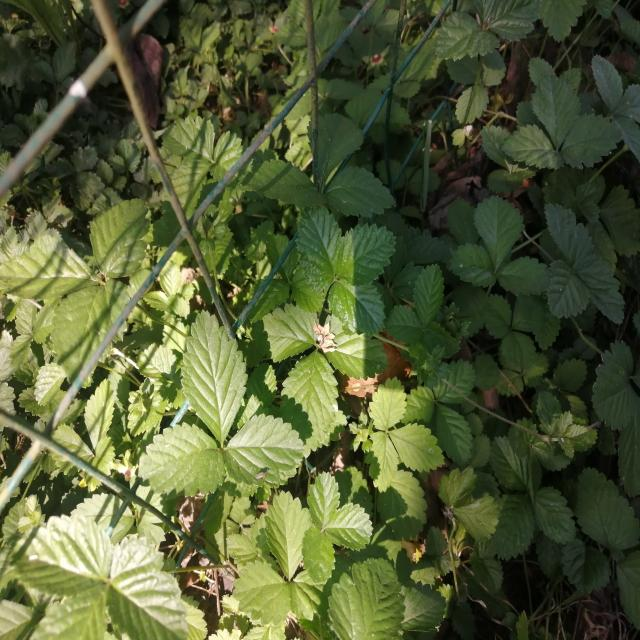Mock_strawberry: (146, 305, 306, 490), (26, 520, 207, 636), (282, 202, 412, 358), (247, 480, 397, 611)
